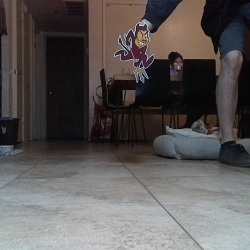sparky: (112, 21, 155, 84)
